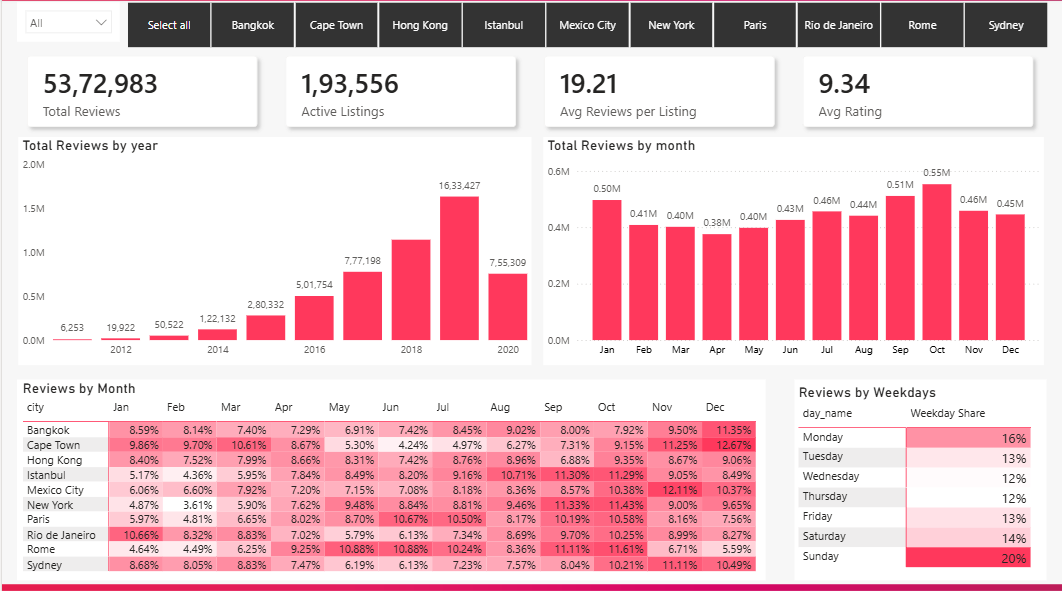

Layout of this report page (visuals, bound fields, positions):
{"tool":"powerbi","page":{"name":"2. Demand & seasonality","canvas":[1280,720],"ordinal":1},"visuals":[{"type":"slicer","fields":{"Values":["dim_city.city"]},"box":[131.6,4,1148.7,58.3],"z":0},{"type":"pivotTable","title":"Reviews by Month","fields":{"Columns":["dim_date.month_name"],"Rows":["dim_city.city"],"Values":["_Measures.Seasonal Share"]},"box":[17.9,462.2,903.4,242.3],"z":1000},{"type":"cardVisual","fields":{"Data":["_Measures.Total Reviews","_Measures.Active Listings","_Measures.Avg Reviews per Listing","_Measures.Avg Rating"]},"box":[17.9,58.3,1241.4,110.7],"z":2000},{"type":"pivotTable","title":"Reviews by Weekdays","fields":{"Rows":["dim_date.day_name"],"Values":["_Measures.Weekday Share"]},"box":[955.7,462.2,303.6,242.3],"z":3000},{"type":"columnChart","fields":{"Category":["dim_date.year"],"Y":["_Measures.Total Reviews"]},"box":[19.4,169,619.2,275.2],"z":4000},{"type":"columnChart","title":"Total Reviews by month","fields":{"Category":["dim_date.month_name"],"Y":["_Measures.Reviews 2015-19"]},"box":[653.6,169,604.3,275.2],"z":4500},{"type":"slicer","fields":{"Values":["dim_date.year"]},"box":[17.9,6,124.1,47.9],"z":5000}]}

Visuals, with their boxes in screenshot pixels (x1, y1, x2, y2), scaled from the page's 1280x720 canvas onto the 1062x591 screenshot:
slicer - dim_city.city: (left=109, top=3, right=1061, bottom=51)
"Reviews by Month" pivotTable: (left=15, top=379, right=764, bottom=578)
cardVisual - _Measures.Total Reviews x _Measures.Active Listings: (left=15, top=48, right=1045, bottom=139)
"Reviews by Weekdays" pivotTable: (left=793, top=379, right=1045, bottom=578)
columnChart - dim_date.year x _Measures.Total Reviews: (left=16, top=139, right=530, bottom=365)
"Total Reviews by month" columnChart: (left=542, top=139, right=1044, bottom=365)
slicer - dim_date.year: (left=15, top=5, right=118, bottom=44)
